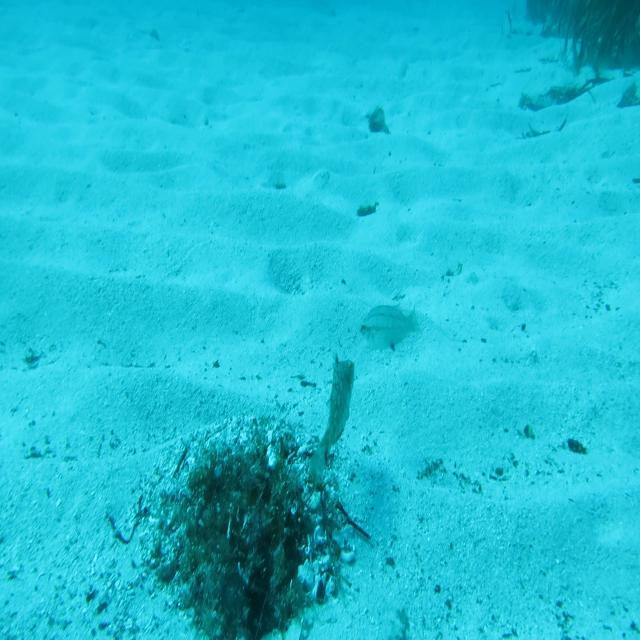MAF: (306, 348, 356, 492)
core_nest: (216, 470, 259, 503)
female: (357, 296, 422, 358)
nest: (132, 408, 361, 640)
vegetation: (358, 200, 380, 218)
